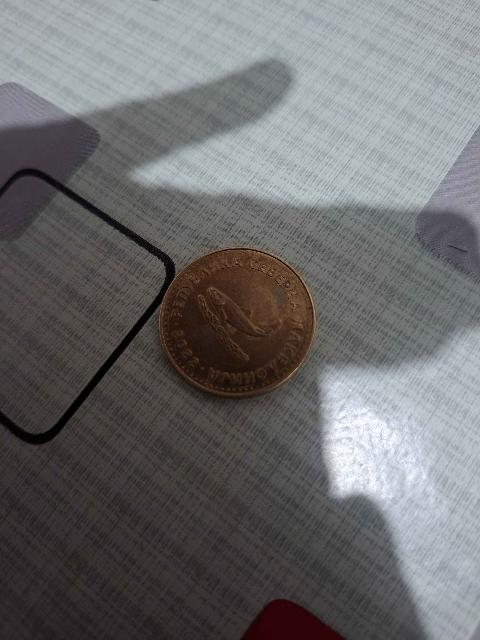coin: (160, 248, 315, 397)
